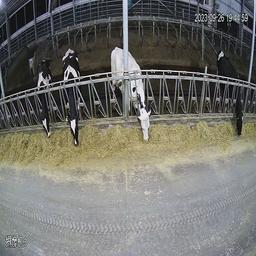cow: (109, 45, 154, 145), (215, 48, 246, 136), (60, 47, 87, 148), (37, 61, 56, 139)
